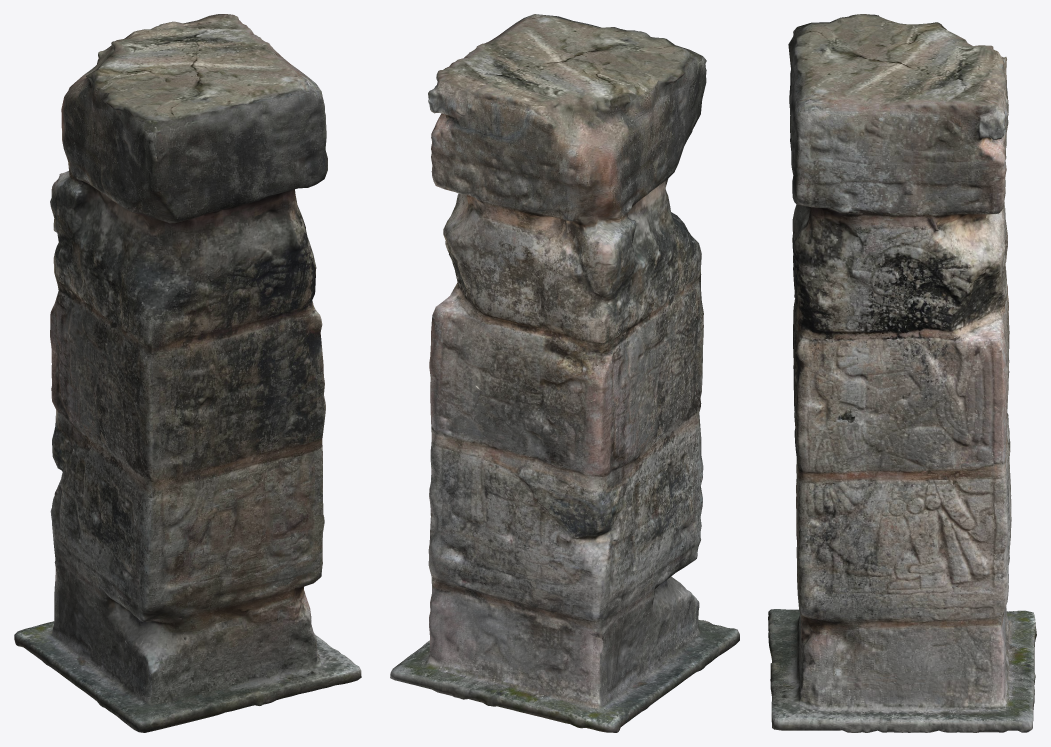
File: mayan_column_2k.glb
3 views of the same model, side by side, from view 1: azimuth 30°, elevation 25°; view 2: azimuth 150°, elevation 25°; view 3: azimuth 270°, elevation 25° (orthographic). The views are drawn at different scales.
Visible parts, largest first — view 1: mayan_column LP; view 2: mayan_column LP; view 3: mayan_column LP.
Boxes of the visible parts, box(x1,y1,x2,y2) form: mayan_column LP: box(14, 14, 361, 732); mayan_column LP: box(390, 14, 739, 732); mayan_column LP: box(768, 14, 1036, 732).
Bounding box in the file's own units: 0.9852 × 2.49 × 0.9852.
Materials: 1 (1 with a texture image).
